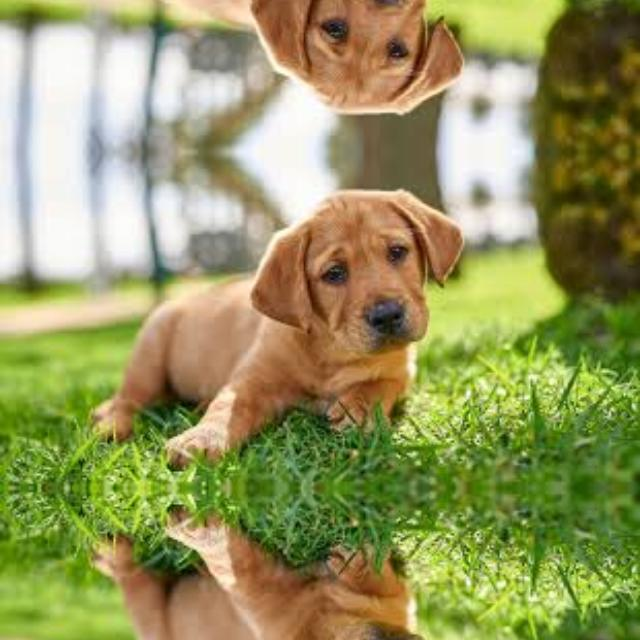dog: (88, 183, 464, 453), (88, 0, 464, 119), (88, 522, 464, 640)
